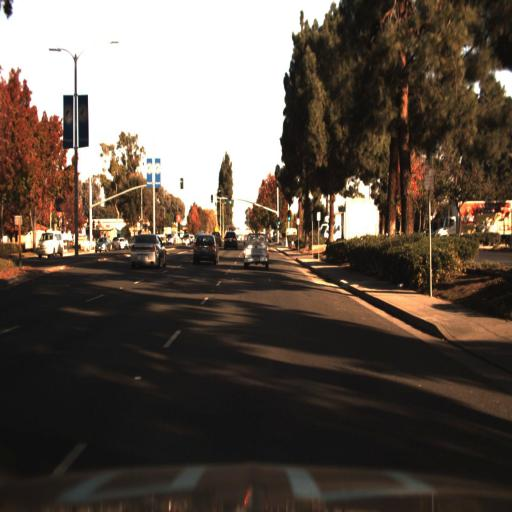car: (127, 230, 170, 270), (190, 232, 222, 270), (240, 230, 269, 270), (36, 230, 65, 262), (36, 232, 69, 259), (92, 234, 116, 258), (221, 228, 239, 253), (92, 236, 112, 256), (210, 228, 224, 252)
trafficLight-Green: (274, 214, 282, 231), (287, 208, 293, 226)
truck: (433, 199, 511, 264), (429, 198, 511, 240)
